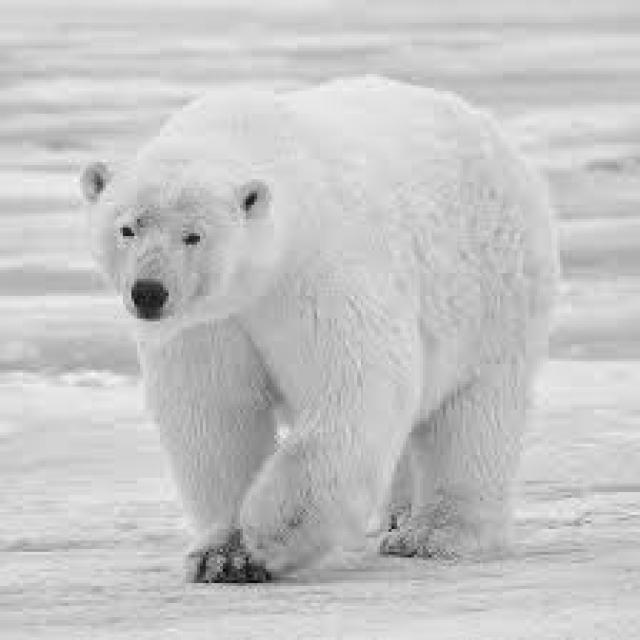Bear: (64, 68, 570, 575)
